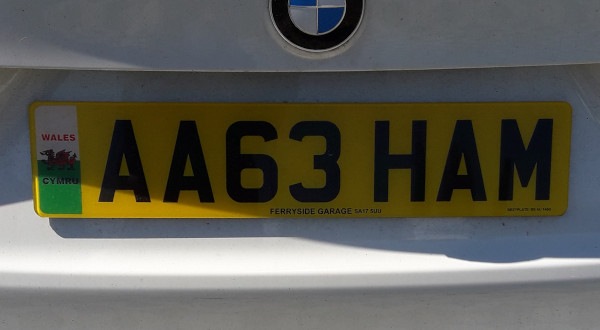license_plate: (30, 101, 572, 220)
